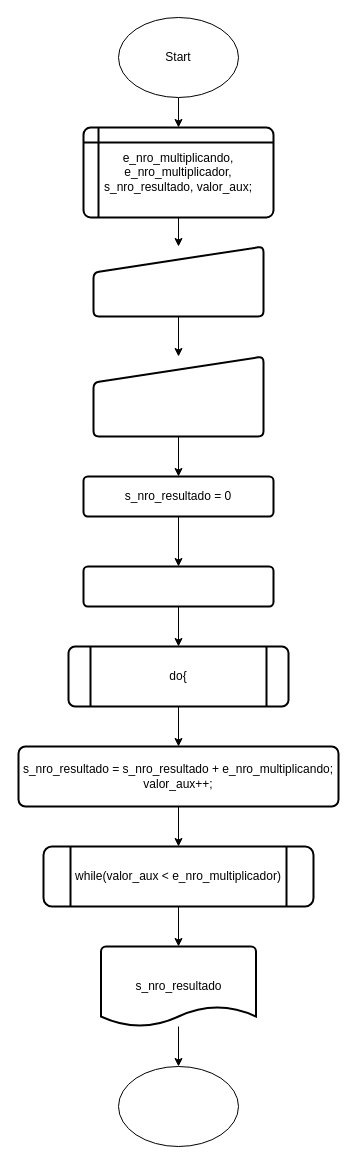
This 356x1164 diagram has some shape labels left out. Here are the shapes that lost their labels. From the top down, the centre of each, then its label:
(x=178, y=281): e_nro_multiplicando
(x=178, y=396): e_nro_multiplicador
(x=178, y=586): valor_aux = 0
(x=178, y=1106): End
